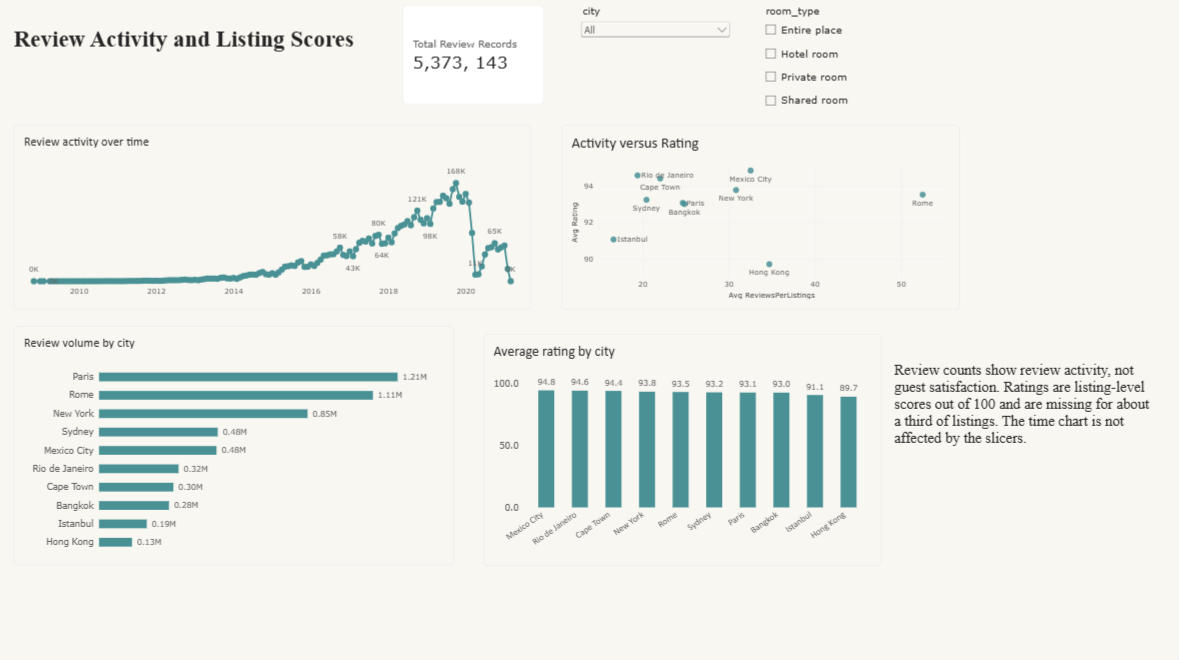

The dashboard page shown, as its layout file describes it:
{"tool":"powerbi","page":{"name":"Review and Listing","canvas":[1920,1080],"ordinal":3},"visuals":[{"type":"cardVisual","fields":{"Data":["ReviewsPerMonth.Total Review Records Text"]},"box":[654,18,230,162],"z":0},{"type":"lineChart","title":"Review activity over time","fields":{"Category":["ReviewsPerMonth.year_month.Variation.Date Hierarchy.Year","ReviewsPerMonth.year_month.Variation.Date Hierarchy.Month"],"Y":["Sum(ReviewsPerMonth.review_count)"]},"box":[22.9,212.9,841.4,300],"z":1000},{"type":"clusteredBarChart","title":"Review volume by city","fields":{"Category":["Listings.city"],"Y":["ReviewsPerListing.Total Review Record"]},"box":[22,540,716,388],"z":2000},{"type":"clusteredColumnChart","title":"Average rating by city","fields":{"Category":["Listings.city"],"Y":["Listings.Avg Rating"]},"box":[785,550,647.5,377.5],"z":3000},{"type":"scatterChart","title":"Activity versus Rating","fields":{"Category":["Listings.city"],"X":["ReviewsPerMonth.Avg ReviewsPerListings"],"Y":["Listings.Avg Rating"]},"box":[912,212,648,300],"z":4000},{"type":"slicer","fields":{"Values":["Listings.city"]},"box":[940,18,252,142],"z":5000},{"type":"slicer","fields":{"Values":["Listings.room_type"]},"box":[1236,16,310,184],"z":6000},{"type":"textbox","box":[1454,596,426,190],"z":7000},{"type":"textbox","box":[22,50,608,80],"z":8000}]}

Visuals, with their boxes in screenshot pixels (x1, y1, x2, y2), scaled from the page's 1920x1080 canvas onto the 1179x660 screenshot:
cardVisual - ReviewsPerMonth.Total Review Records Text: select_region(402, 11, 543, 110)
"Review activity over time" lineChart: select_region(14, 130, 531, 313)
"Review volume by city" clusteredBarChart: select_region(14, 330, 453, 567)
"Average rating by city" clusteredColumnChart: select_region(482, 336, 880, 567)
"Activity versus Rating" scatterChart: select_region(560, 130, 958, 313)
slicer - Listings.city: select_region(577, 11, 732, 98)
slicer - Listings.room_type: select_region(759, 10, 949, 122)
textbox: select_region(893, 364, 1154, 480)
textbox: select_region(14, 31, 387, 79)
